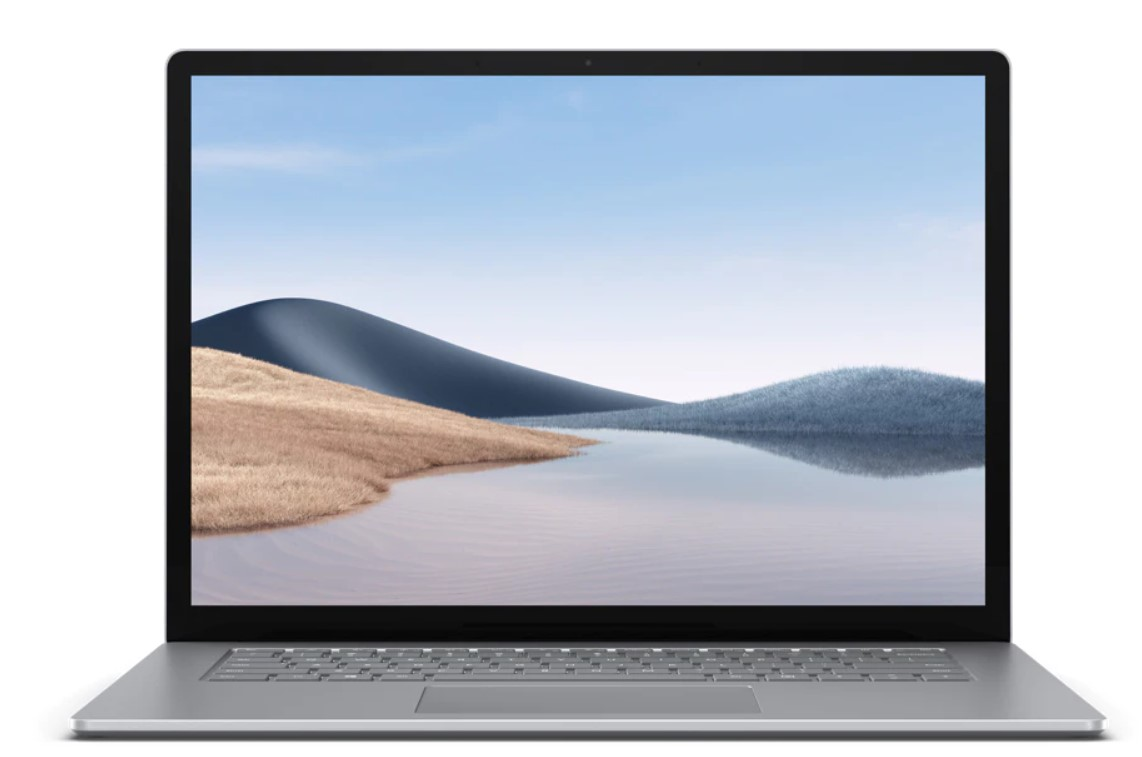laptops: (37, 23, 1122, 750)
